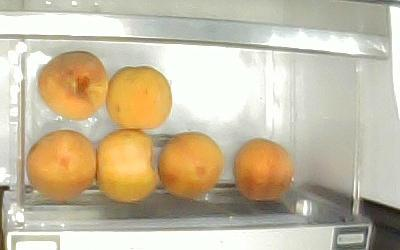peach: (25, 128, 96, 200), (37, 49, 109, 119), (94, 127, 161, 202), (157, 130, 224, 199), (104, 64, 173, 130), (231, 137, 293, 200)
